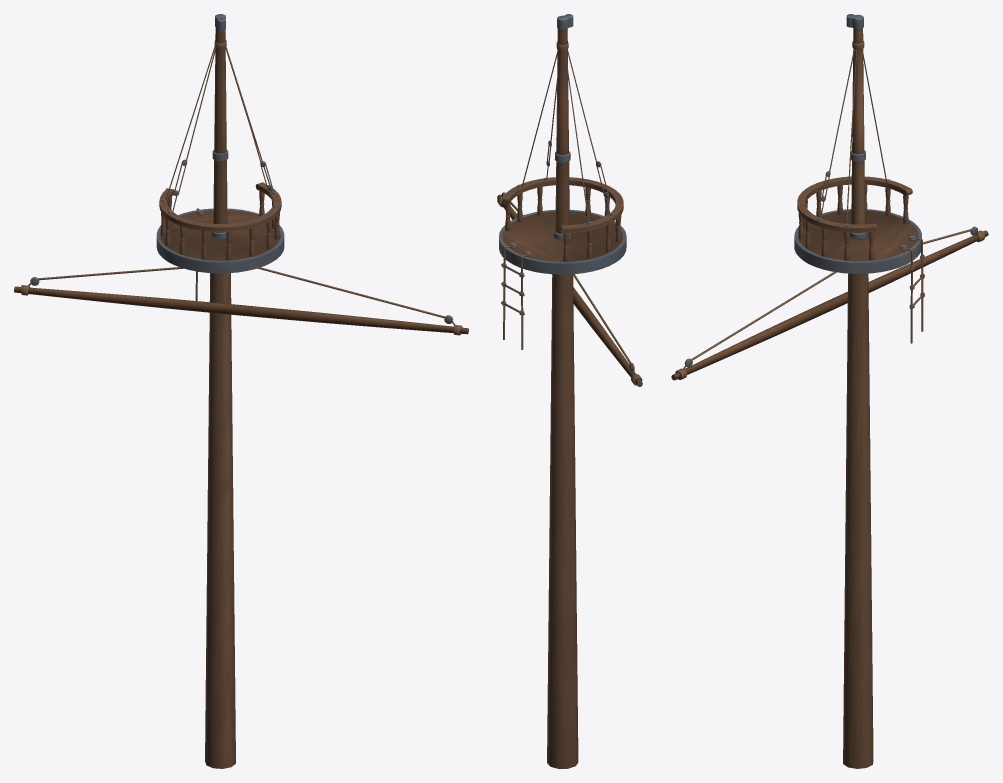
File: pref_sce_081501_mast01_a_lv3.fbx
3 views of the same model, side by side, from view 1: azimuth 30°, elevation 25°; view 2: azimuth 150°, elevation 25°; view 3: azimuth 270°, elevation 25° (orthographic).
Visible parts, largest first — view 1: sm_lobbycinderace_mast01_lv3, sm_lobbycinderace_mast01_a_lv3; view 2: sm_lobbycinderace_mast01_lv3, sm_lobbycinderace_mast01_a_lv3; view 3: sm_lobbycinderace_mast01_lv3, sm_lobbycinderace_mast01_a_lv3.
Boxes of the visible parts, x1,y1,x2,y2 form: sm_lobbycinderace_mast01_lv3: [14, 27, 468, 768]; sm_lobbycinderace_mast01_a_lv3: [30, 14, 452, 323]; sm_lobbycinderace_mast01_lv3: [497, 29, 642, 768]; sm_lobbycinderace_mast01_a_lv3: [499, 14, 634, 371]; sm_lobbycinderace_mast01_lv3: [671, 28, 988, 768]; sm_lobbycinderace_mast01_a_lv3: [684, 14, 978, 367].
Size of the model in its own units: 8.54 by 20.26 by 7.81.
